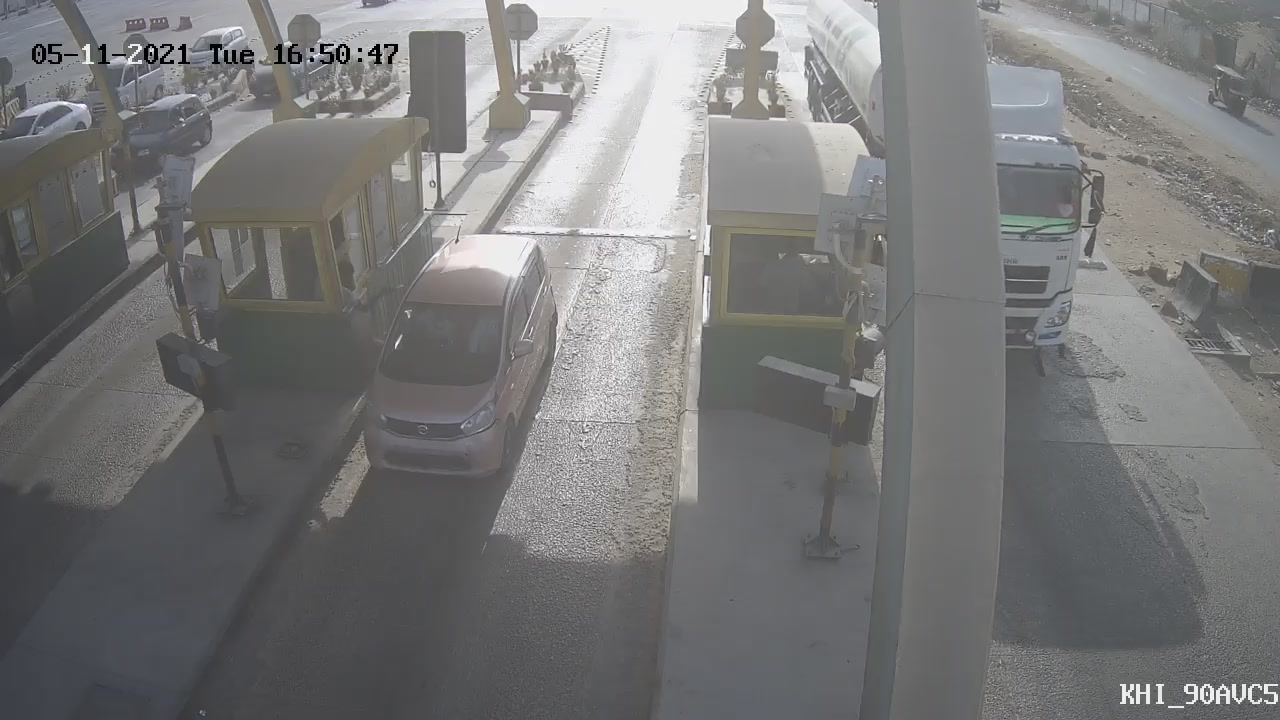F1: (343, 211, 579, 500)
